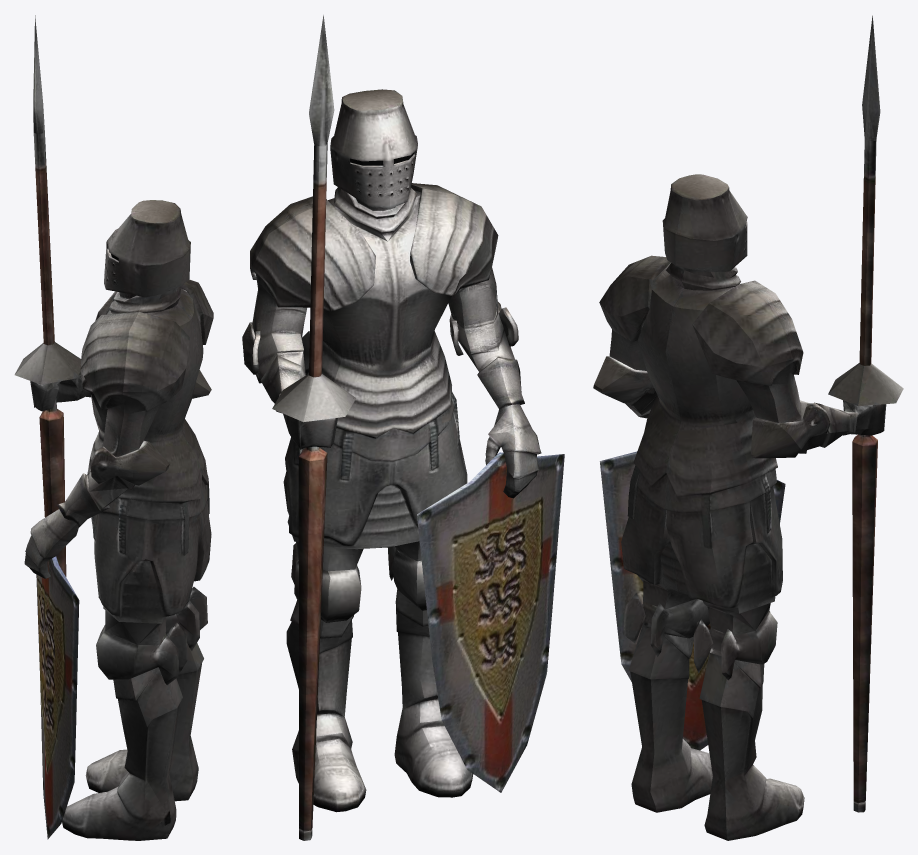
The model's file is knight1.dae.
The picture shows the model from 3 angles, left to right: view 1: azimuth 30°, elevation 25°; view 2: azimuth 150°, elevation 25°; view 3: azimuth 270°, elevation 25°; orthographic projection. The views are drawn at different scales.
Parts seen in each view (by area): view 1: Knight1; view 2: Knight1; view 3: Knight1.
Boxes of the visible parts, bbox=[...] form: Knight1: bbox=[14, 15, 213, 840]; Knight1: bbox=[242, 15, 564, 840]; Knight1: bbox=[593, 15, 903, 840].
Size of the model in its own units: 3.25 by 3.88 by 10.81.
Materials: 1 (1 with a texture image).
